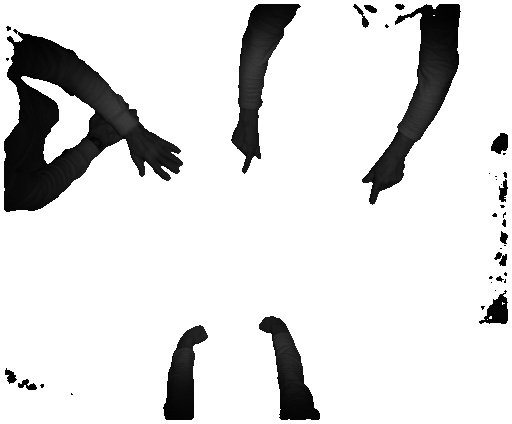fist: (256, 312, 290, 337), (184, 320, 207, 348)
hand: (130, 127, 183, 183), (360, 153, 406, 207), (231, 121, 263, 175)
